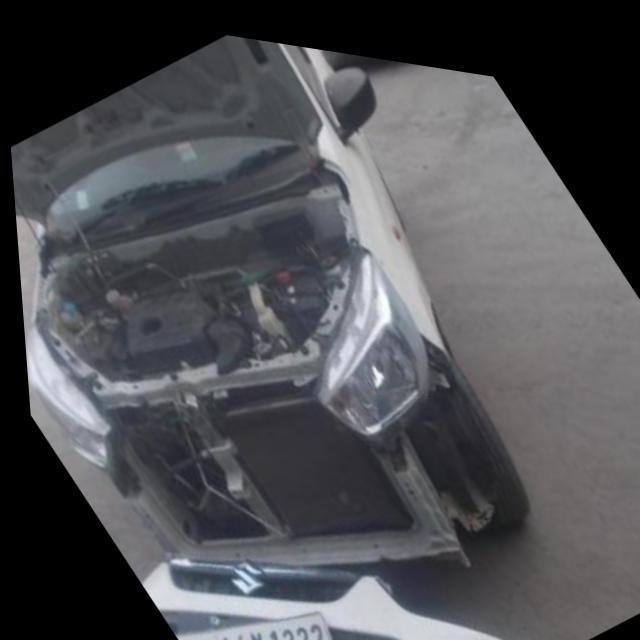no part: (92, 336, 498, 550)
